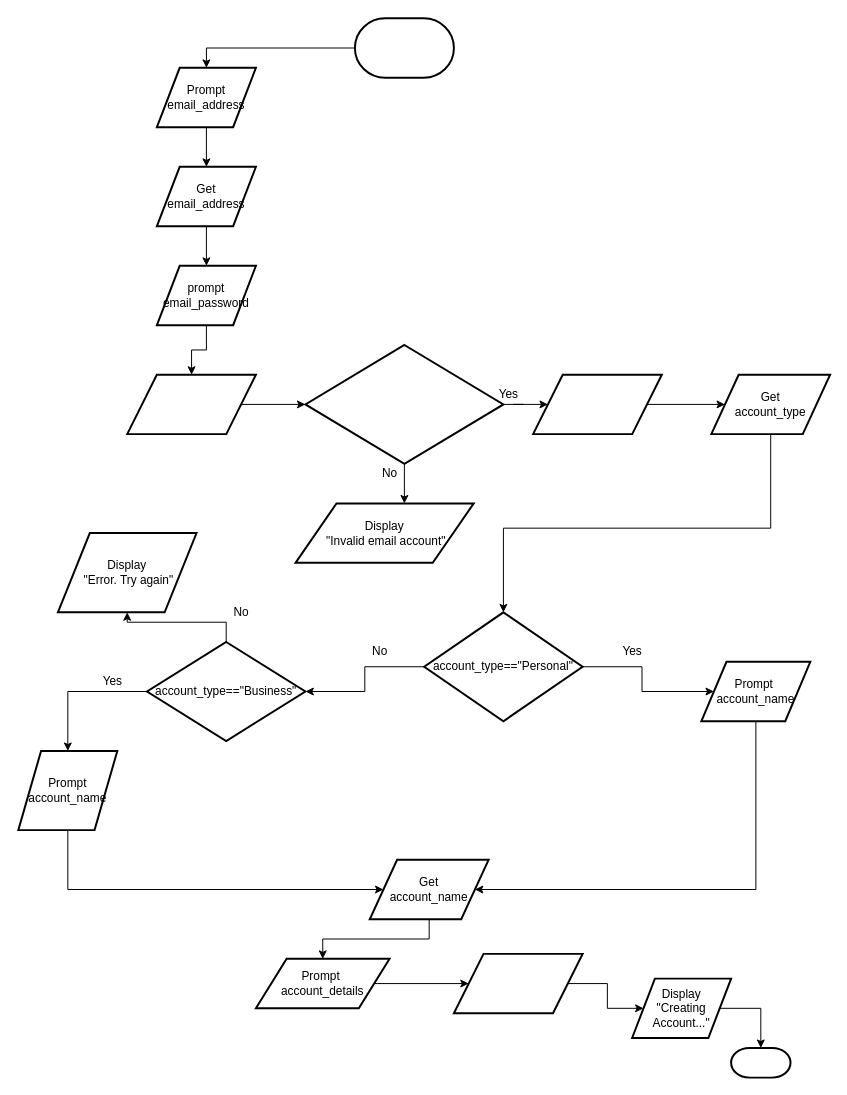
Some shapes in this 847 by 1095 pixel diagram are drawn without their labels. The shapes that lost their labels are listed below. From the top down, each one's box as (x1, y1, x2, y2) in pixels, then its label:
(353, 17, 454, 78): Start
(126, 373, 256, 435): get email_password
(304, 344, 504, 464): email_address_status == "VALID" AND email_password== "CORRECT"
(532, 373, 662, 435): Prompt account_type
(452, 952, 583, 1014): Get account_details
(730, 1046, 791, 1078): Stop
